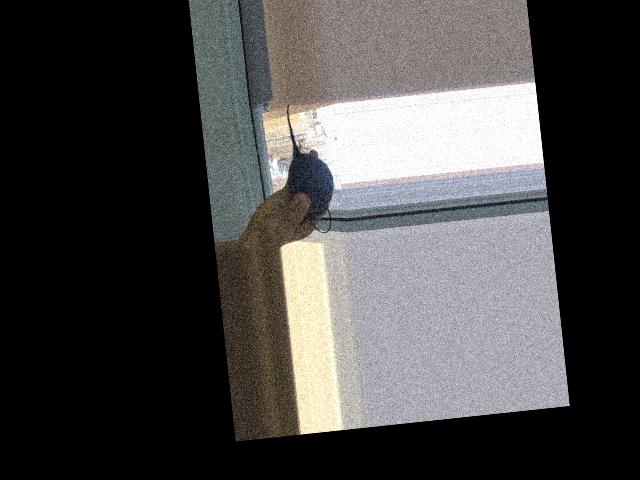beet: (279, 100, 338, 235)
